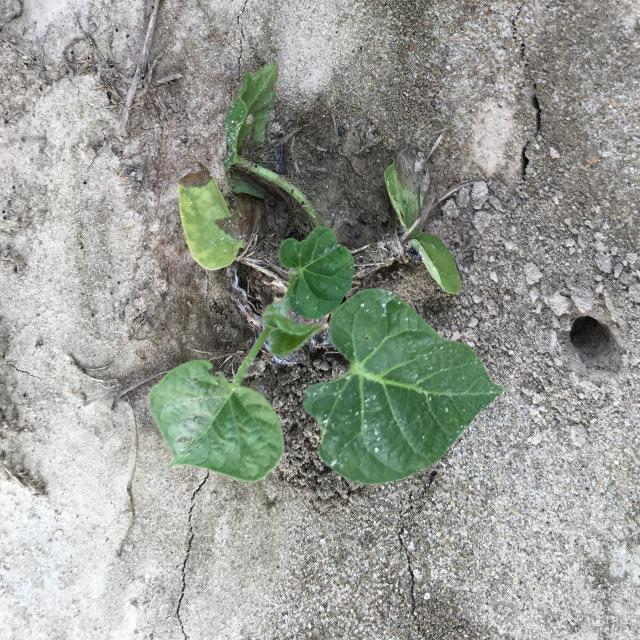MorningGlory: (148, 61, 508, 486)
